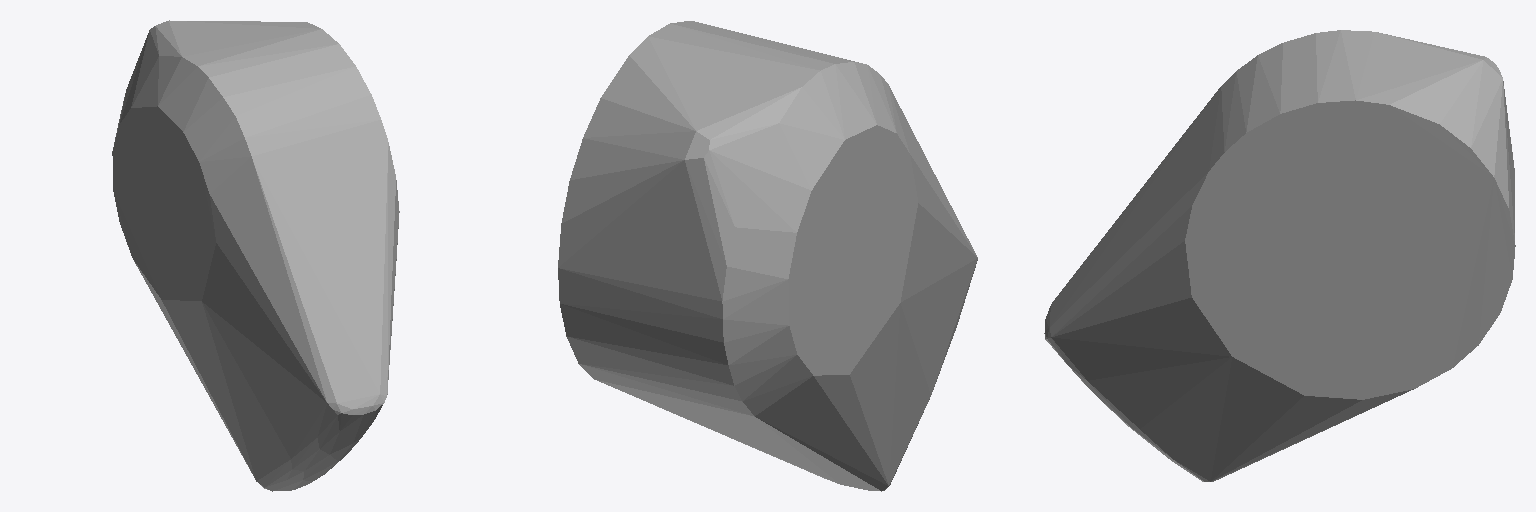
robot.urdf — panda:
<?xml version='1.0' encoding='utf-8'?>
<robot name="panda">

    <link name="link0">
      <inertial>
        <origin xyz="0 0 0.05" rpy="0 0 0" />
        <mass value="4" />
        <inertia ixx="0.4" iyy="0.4" izz="0.4" ixy="0" ixz="0" iyz="0" />
      </inertial>
      <visual>
        <geometry>
          <mesh filename="../../../../examples/models/panda/meshes/link0.obj"/>
        </geometry>
      </visual>
      <!-- <collision>
        <geometry>
          <mesh filename="../../../../examples/models/panda/meshes/link0.obj"/>
        </geometry>
      </collision> -->
    </link>
    <link name="link1">
      <inertial>
        <origin xyz="0 0 -0.07" rpy="0 -0 0" />
        <mass value="3" />
        <inertia ixx="0.3" iyy="0.3" izz="0.3" ixy="0" ixz="0" iyz="0" />
      </inertial>
      <visual>
        <geometry>
          <mesh filename="../../../../examples/models/panda/meshes/link1.obj"/>
        </geometry>
      </visual>
      <!-- <collision>
        <geometry>
          <mesh filename="../../../../examples/models/panda/meshes/link1.obj"/>
        </geometry>
      </collision> -->
    </link>
    <link name="link2">
      <inertial>
        <origin xyz="0 -0.1 0" rpy="0 -0 0" />
        <mass value="3" />
        <inertia ixx="0.3" iyy="0.3" izz="0.3" ixy="0" ixz="0" iyz="0" />
      </inertial>
      <visual>
        <geometry>
          <mesh filename="../../../../examples/models/panda/meshes/link2.obj"/>
        </geometry>
      </visual>
      <collision>
        <geometry>
          <mesh filename="../../../../examples/models/panda/meshes/link2.obj"/>
        </geometry>
      </collision>
    </link>
    <link name="link3">
      <inertial>
        <origin xyz="0.04 0 -0.05" rpy="0 -0 0" />
        <mass value="2" />
        <inertia ixx="0.2" iyy="0.2" izz="0.2" ixy="0" ixz="0" iyz="0" />
      </inertial>
      <visual>
        <geometry>
          <mesh filename="../../../../examples/models/panda/meshes/link3.obj"/>
        </geometry>
      </visual>
      <collision>
        <geometry>
          <mesh filename="../../../../examples/models/panda/meshes/link3.obj"/>
        </geometry>
      </collision>
    </link>
    <link name="link4">
      <inertial>
        <origin xyz="-0.04 0.05 0" rpy="0 -0 0" />
        <mass value="2" />
        <inertia ixx="0.2" iyy="0.2" izz="0.2" ixy="0" ixz="0" iyz="0" />
      </inertial>
      <visual>
        <geometry>
          <mesh filename="../../../../examples/models/panda/meshes/link4.obj"/>
        </geometry>
      </visual>
      <collision>
        <geometry>
          <mesh filename="../../../../examples/models/panda/meshes/link4.obj"/>
        </geometry>
      </collision>
    </link>
    <link name="link5">
      <inertial>
        <origin xyz="0 0 -0.15" rpy="0 -0 0" />
        <mass value="2" />
        <inertia ixx="0.2" iyy="0.2" izz="0.2" ixy="0" ixz="0" iyz="0" />
      </inertial>
      <visual>
        <geometry>
          <mesh filename="../../../../examples/models/panda/meshes/link5.obj"/>
        </geometry>
      </visual>
      <collision>
        <geometry>
          <mesh filename="../../../../examples/models/panda/meshes/link5.obj"/>
        </geometry>
      </collision>
    </link>
    <link name="link6">
      <inertial>
        <origin xyz="0.06 0 0" rpy="0 -0 0" />
        <mass value="1.5" />
        <inertia ixx="0.1" iyy="0.1" izz="0.1" ixy="0" ixz="0" iyz="0" />
      </inertial>
      <visual>
        <geometry>
          <mesh filename="../../../../examples/models/panda/meshes/link6.obj"/>
        </geometry>
        <!-- <material>
          <color rgba="0.5 0.2 0.1 1.0" />
        </material> -->
      </visual>
      <collision>
        <geometry>
          <mesh filename="../../../../examples/models/panda/meshes/link6.obj"/>
        </geometry>
      </collision>
    </link>


    <link name="link7">
      <inertial>
        <origin xyz="0 0 0.08" rpy="0 -0 0" />
        <mass value="0.5" />
        <inertia ixx="0.05" iyy="0.05" izz="0.05" ixy="0" ixz="0" iyz="0" />
      </inertial>
      <visual>
        <origin xyz="0 0 0" rpy="0 0 0" />
        <geometry>
          <mesh filename="../../../../examples/models/panda/meshes/link7.obj"/>
        </geometry>
      </visual>
      <collision>
        <geometry>
          <mesh filename="../../../../examples/models/panda/meshes/link7.obj"/>
        </geometry>
      </collision>

      <!-- HAND VIZ -->
      <!-- <visual>
        <origin xyz="0 0 0.107" rpy="0 0 -0.78539816339" />
        <geometry>
          <mesh filename="../../../../examples/models/panda/meshes/hand.obj"/>
        </geometry>
      </visual> -->

      <!-- CAP VIZ -->
      <!-- <visual>
        <origin xyz="0 0 0.505" rpy="0 0 0" />
        <geometry>
            <mesh filename="Cap2_NoThreads.obj" scale="0.041 0.041 0.041" />
        </geometry>
      </visual> -->

      <!-- SPIN VIZ -->
      <!-- <visual>
            <origin xyz="0 0 0.174" rpy="0 0 0" />
            <geometry>
                <box size="0.15 0.02 0.005" />
            </geometry>
            <material name="material_ee">
                <color rgba="0.5 0.2 0.1 1.0" />
            </material>
      </visual>
      <visual>
            <origin xyz="0 0 0.174" rpy="0 0 0" />
            <geometry>
                <box size="0.02 0.15 0.005" />
            </geometry>
            <material name="material_ee">
                <color rgba="0.5 0.5 0.0 1.0" />
            </material>
      </visual> -->

      <!-- CAP COLLISION-->
      <!-- <collision>
            <origin xyz="0 0 0.503" rpy="0 0 0" />
            <geometry>
                <mesh filename="Cap2_NoThreads.obj" scale="0.041 0.041 0.041" />
            </geometry>
      </collision> -->


    </link>
    <joint name="joint1" type="revolute">
      <safety_controller k_position="100.0" k_velocity="40.0" soft_lower_limit="-2.8973" soft_upper_limit="2.8973"/>
      <origin rpy="0 0 0" xyz="0 0 0.333"/>
      <parent link="link0"/>
      <child link="link1"/>
      <axis xyz="0 0 1"/>
      <limit effort="87" lower="-2.8973" upper="2.8973" velocity="2.1750"/>
    </joint>
    <joint name="joint2" type="revolute">
      <safety_controller k_position="100.0" k_velocity="40.0" soft_lower_limit="-1.7628" soft_upper_limit="1.7628"/>
      <origin rpy="-1.57079632679 0 0" xyz="0 0 0"/>
      <parent link="link1"/>
      <child link="link2"/>
      <axis xyz="0 0 1"/>
      <calibration falling="-45.0" />
      <limit effort="87" lower="-1.7628" upper="1.7628" velocity="2.1750"/>
    </joint>
    <joint name="joint3" type="revolute">
      <safety_controller k_position="100.0" k_velocity="40.0" soft_lower_limit="-2.8973" soft_upper_limit="2.8973"/>
      <origin rpy="1.57079632679 0 0" xyz="0 -0.316 0"/>
      <parent link="link2"/>
      <child link="link3"/>
      <axis xyz="0 0 1"/>
      <limit effort="87" lower="-2.8973" upper="2.8973" velocity="2.1750"/>
    </joint>
    <joint name="joint4" type="revolute">
      <safety_controller k_position="100.0" k_velocity="40.0" soft_lower_limit="-3.0718" soft_upper_limit="-0.0698"/>
      <origin rpy="1.57079632679 0 0" xyz="0.0825 0 0"/>
      <parent link="link3"/>
      <child link="link4"/>
      <axis xyz="0 0 1"/>
      <calibration falling="-125.0" />
      <limit effort="87" lower="-3.0718" upper="-0.0698" velocity="2.1750"/>
    </joint>
    <joint name="joint5" type="revolute">
      <safety_controller k_position="100.0" k_velocity="40.0" soft_lower_limit="-2.8973" soft_upper_limit="2.8973"/>
      <origin rpy="-1.57079632679 0 0" xyz="-0.0825 0.384 0"/>
      <parent link="link4"/>
      <child link="link5"/>
      <axis xyz="0 0 1"/>
      <limit effort="12" lower="-2.8973" upper="2.8973" velocity="2.6100"/>
    </joint>
    <joint name="joint6" type="revolute">
      <safety_controller k_position="100.0" k_velocity="40.0" soft_lower_limit="-0.0175" soft_upper_limit="3.7525"/>
      <origin rpy="1.57079632679 0 0" xyz="0 0 0"/>
      <parent link="link5"/>
      <child link="link6"/>
      <axis xyz="0 0 1"/>
      <calibration falling="80.0" />
      <limit effort="12" lower="-0.0175" upper="3.7525" velocity="2.6100"/>
    </joint>
    <joint name="joint7" type="revolute">
      <safety_controller k_position="100.0" k_velocity="40.0" soft_lower_limit="-2.8973" soft_upper_limit="2.8973"/>
      <origin rpy="1.57079632679 0 0" xyz="0.088 0 0"/>
      <parent link="link6"/>
      <child link="link7"/>
      <axis xyz="0 0 1"/>
      <limit effort="12" lower="-2.8973" upper="2.8973" velocity="2.6100"/>
    </joint>
<!--     <link name="link8"/>
    <joint name="joint8" type="fixed">
      <origin rpy="0 0 0" xyz="0 0 0.107"/>
      <parent link="link7"/>
      <child link="link8"/>
      <axis xyz="0 0 0"/>
    </joint> -->
  <!-- </xacro:macro> -->
</robot>

--- Render facts (derived) ---
3 views of the same robot in one strip: view 1: azimuth 30°, elevation 25°; view 2: azimuth 150°, elevation 25°; view 3: azimuth 270°, elevation 25° (orthographic).
Robot: panda — 8 links, 7 joints (7 revolute); root link link0; default pose: joints at zero except 1 at the middle of their limits (joint4 = -1.57).
Visible links, largest first — view 1: link7; view 2: link7; view 3: link7.
Boxes of the visible links, x1,y1,x2,y2 form: link7: (112,20,399,491); link7: (558,21,977,491); link7: (1044,30,1515,481).
Size in the robot's own frame: 0.0548 by 0.1252 by 0.1253 metres.
Meshes: 8 distinct files referenced, 1 mesh visuals loaded (1 OBJ); not drawn: 7 (reference not matched to a file when rendering).